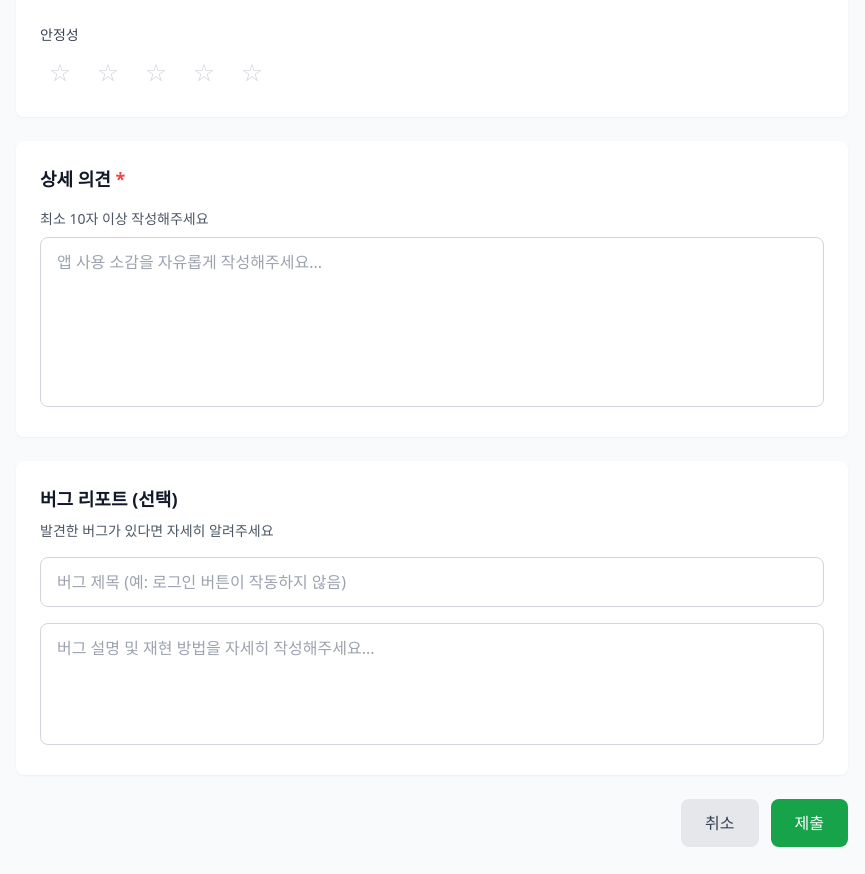
Test: FeedbackPage › 피드백 제출 › 필수 필드 누락 시 에러 메시지 표시 (전체 별점 미입력)
The image size is (865, 874).
(page scrolled)
Click the button "제출" at (809, 823), box [770,799,848,847]
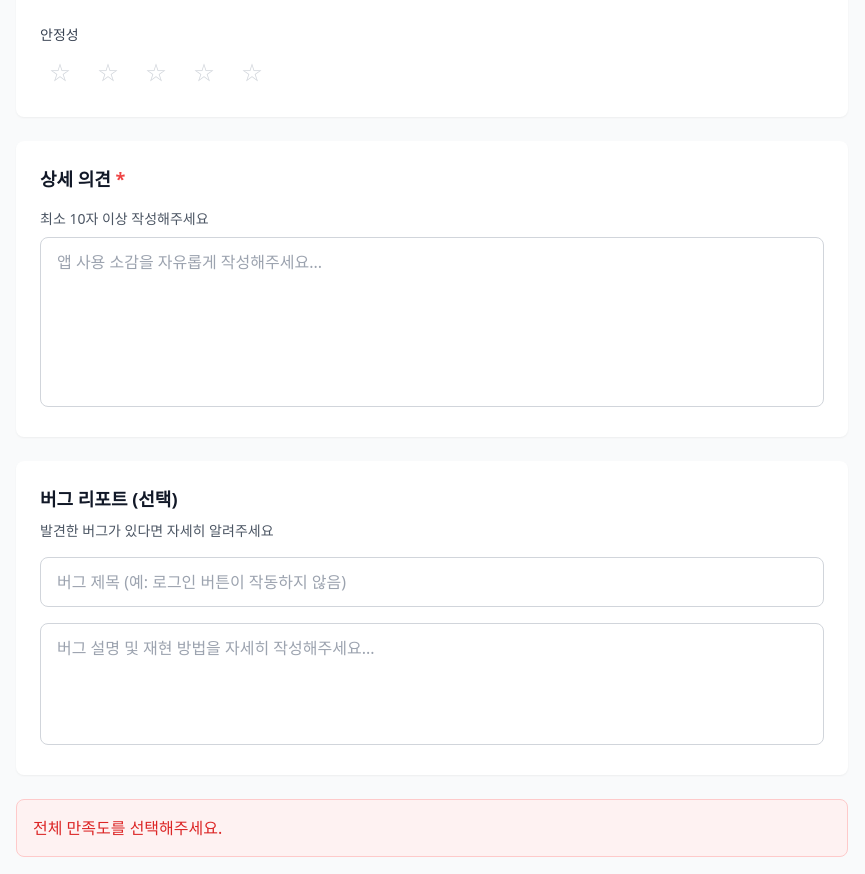
Check: the text "전체 만족도를 선택해주세요." is shown, box [33,817,222,839]
